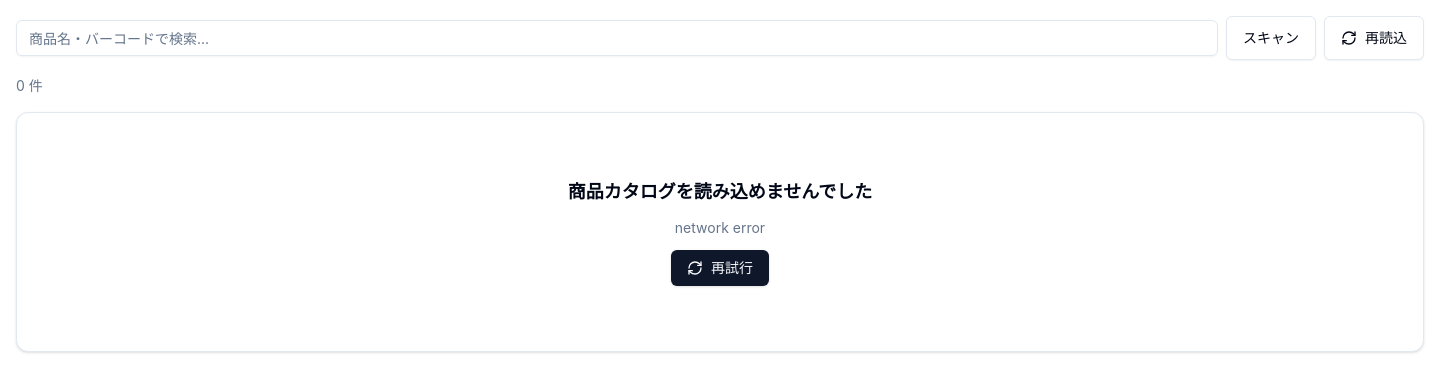
Test: ProductsPage › エラー表示から再試行ボタンで再読込できる
Expected: the text "商品カタログを読み込めませんでした" is shown, x1=568 y1=178 x2=872 y2=206
Click the button "再試行".
click(720, 268)  # box x1=671 y1=250 x2=769 y2=286
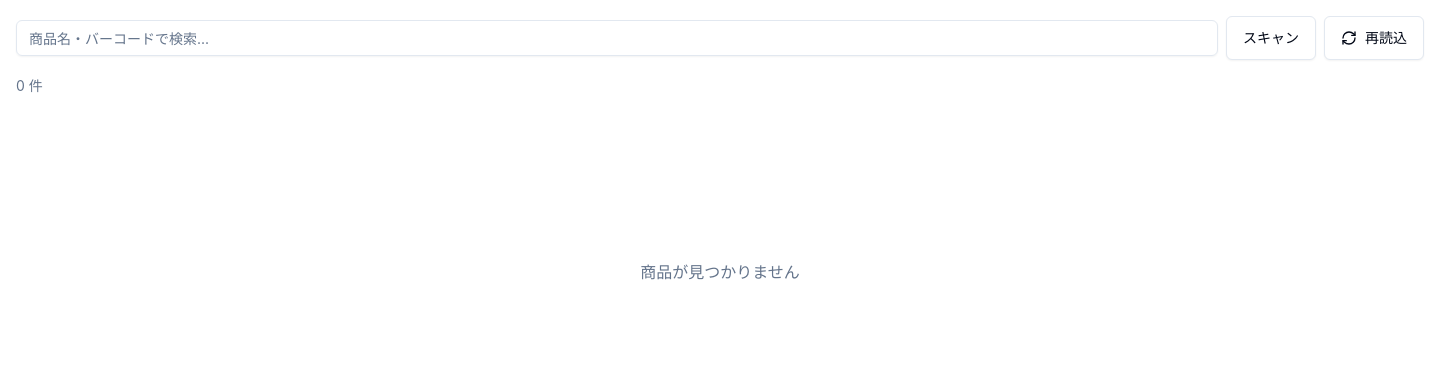
Now the text "商品が見つかりません" is shown, box x1=640 y1=262 x2=800 y2=282
